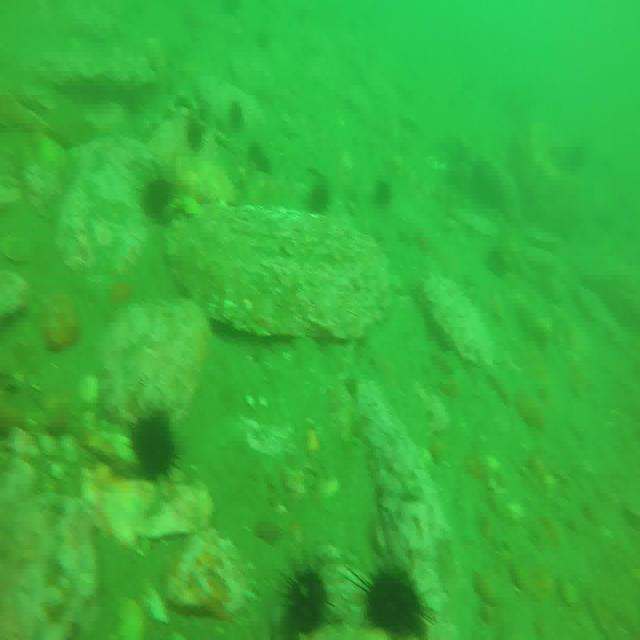echinus: (358, 563, 424, 640), (128, 402, 176, 478), (282, 565, 328, 636), (144, 170, 172, 210), (186, 118, 207, 156), (311, 185, 332, 219), (248, 140, 269, 172), (376, 179, 392, 209), (228, 95, 246, 121)
